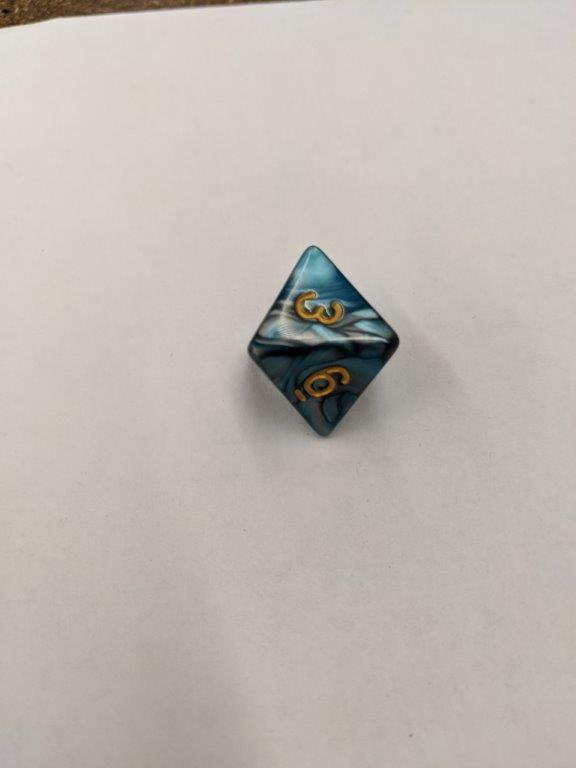d8-3: (249, 244, 400, 442)
